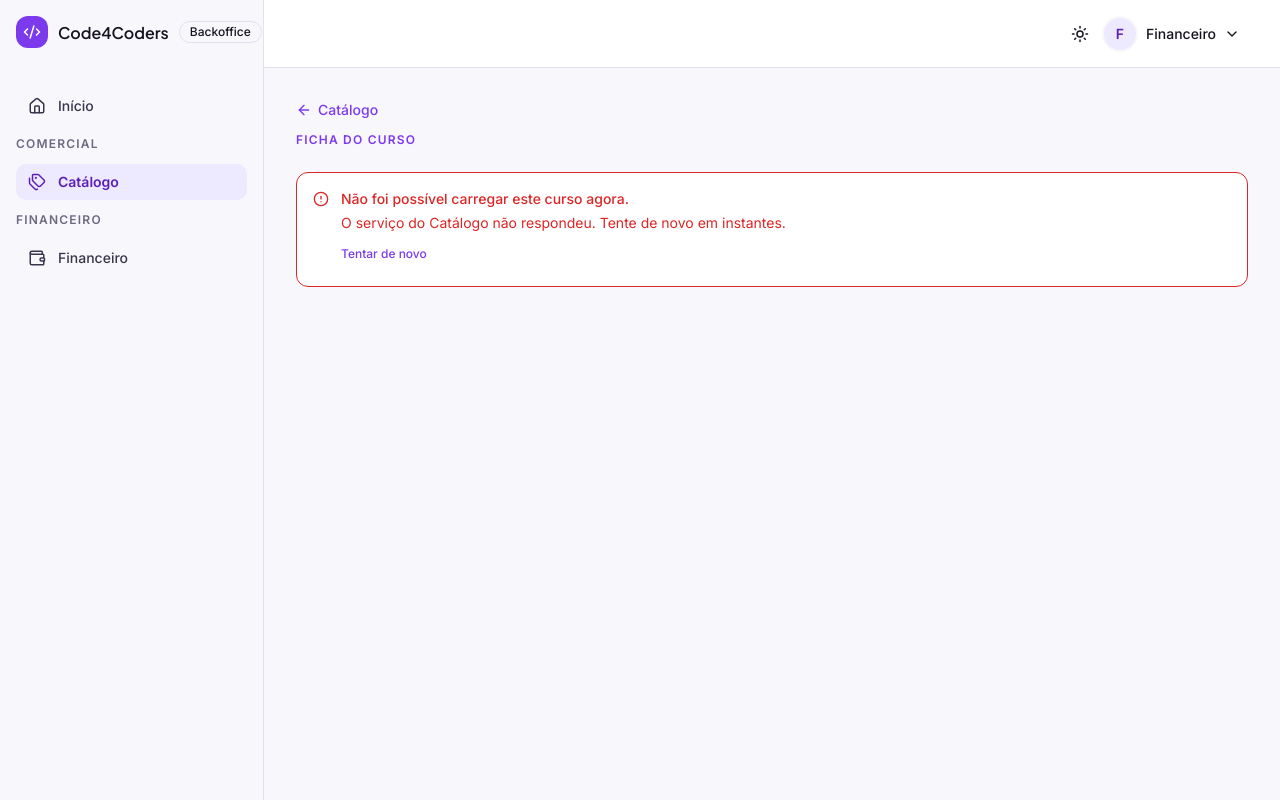
it: catalog course record › uses the same not-found screen for inaccessible courses and retries unavailable records
Expected: the message shows "Não foi possível carregar este curso agora.", [341,190,629,207]
Click the button "Tentar de novo".
click(384, 254)  # box [341,238,427,270]
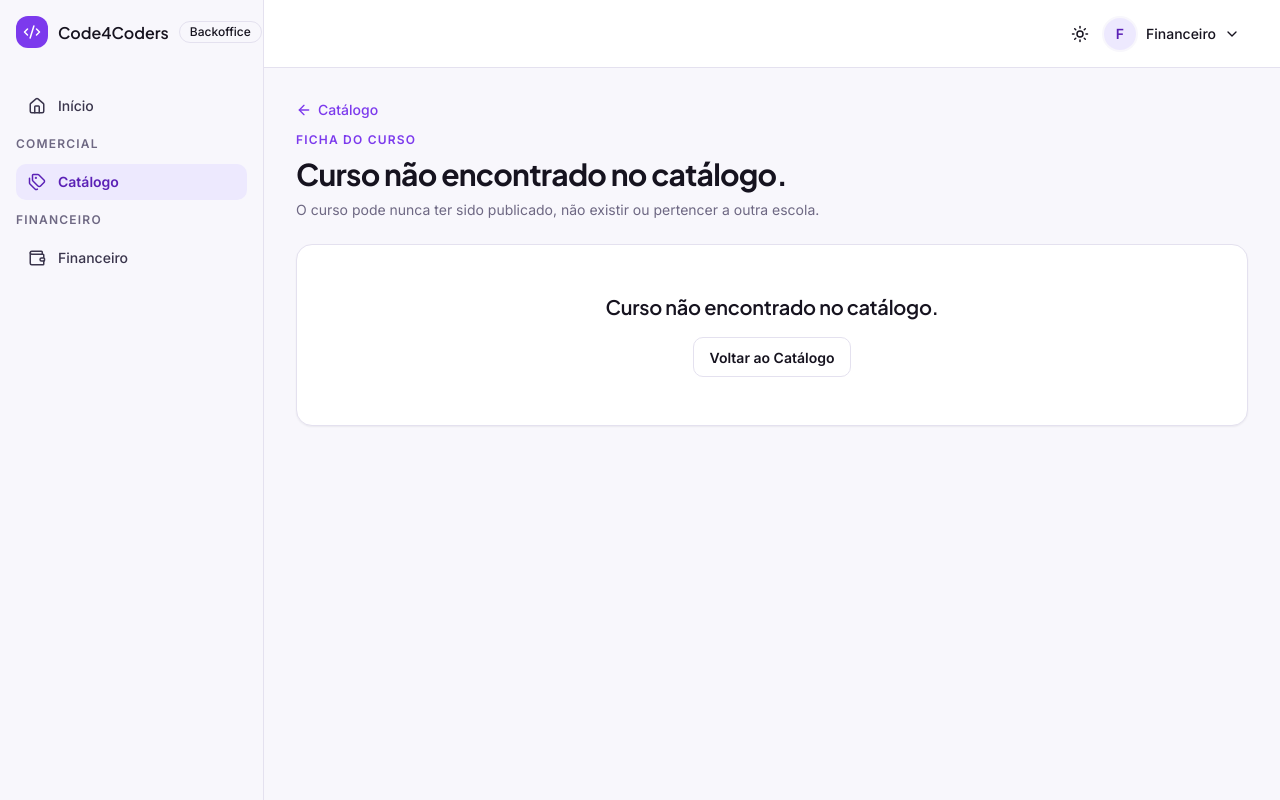
Expected: the heading "Curso não encontrado no catálogo." below "Ficha do curso" is shown, [296,155,787,193]
Expected: the text "O curso pode nunca ter sido publicado, não existir ou pertencer a outra escola." is shown, [296,201,819,218]
